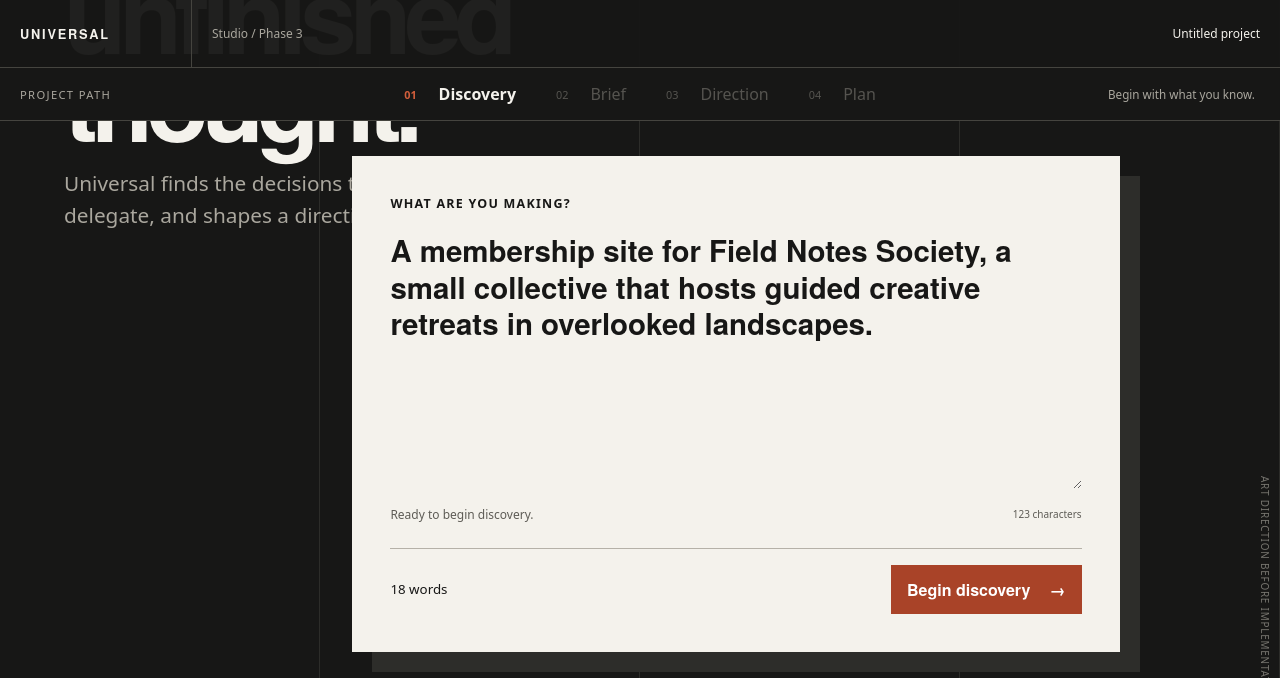
recoverable client failure › a failed start is reported, keeps the prompt, and can be retried
(page scrolled)
Replace the text in the text box labelled "What are you making?" with "A membership site for a small collective that runs guided creative retreats in overlooked coastal towns.". click: (736, 361)
box: [390,232,1082,489]
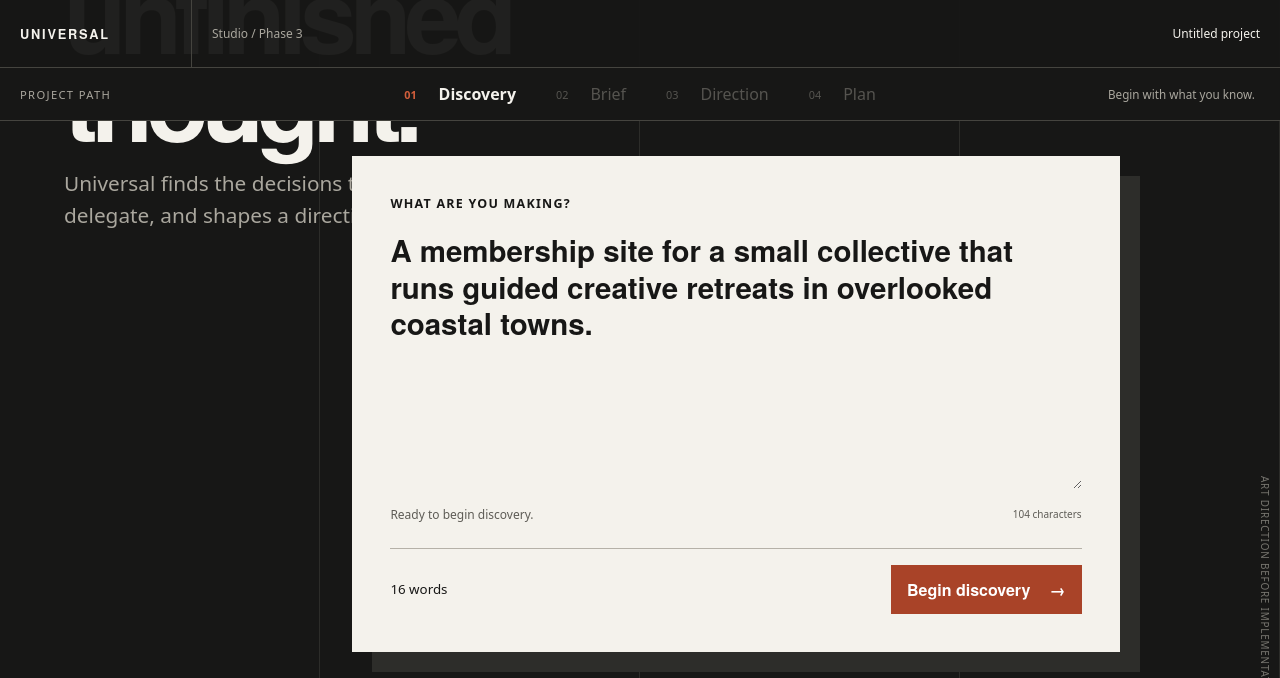
Click the button "Begin discovery →". click: (986, 589)
box: [891,565,1082,614]
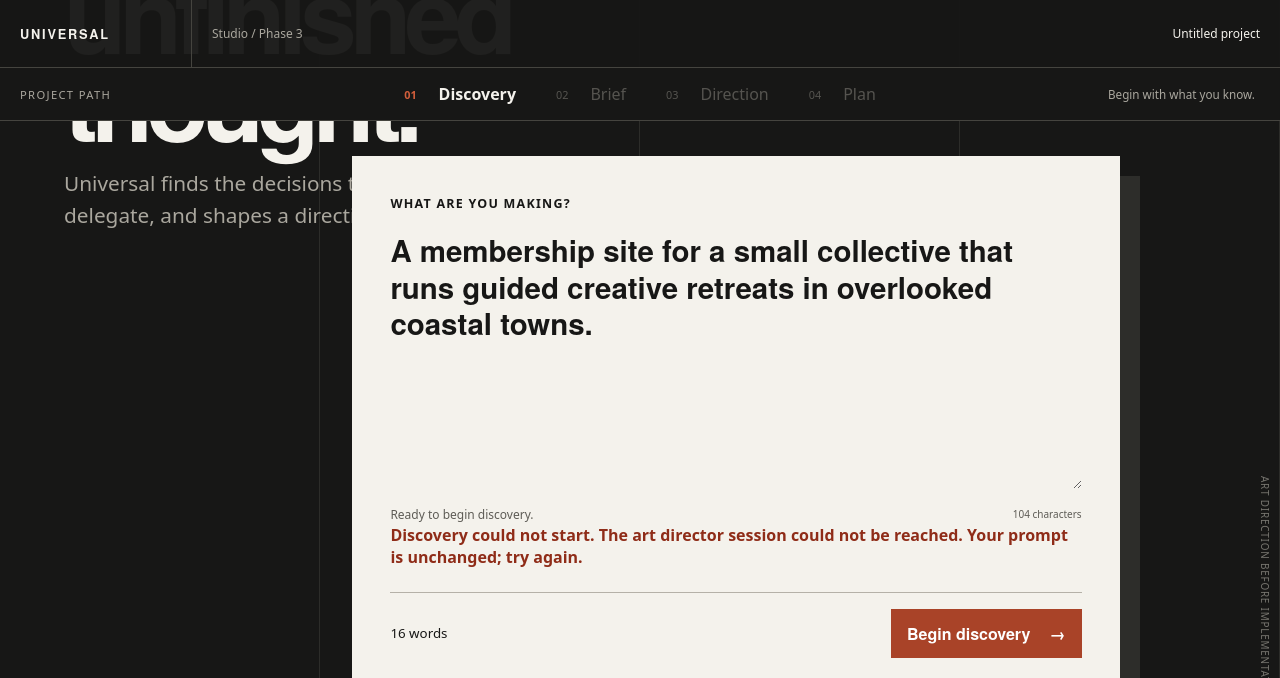
Check: the message shows "Discovery could not start", box [390,524,595,546]
Check: the message shows "could not be reached", box [599,524,963,546]
Click the button "Begin discovery →". click: (986, 633)
box: [891,609,1082,658]
(page scrolled)
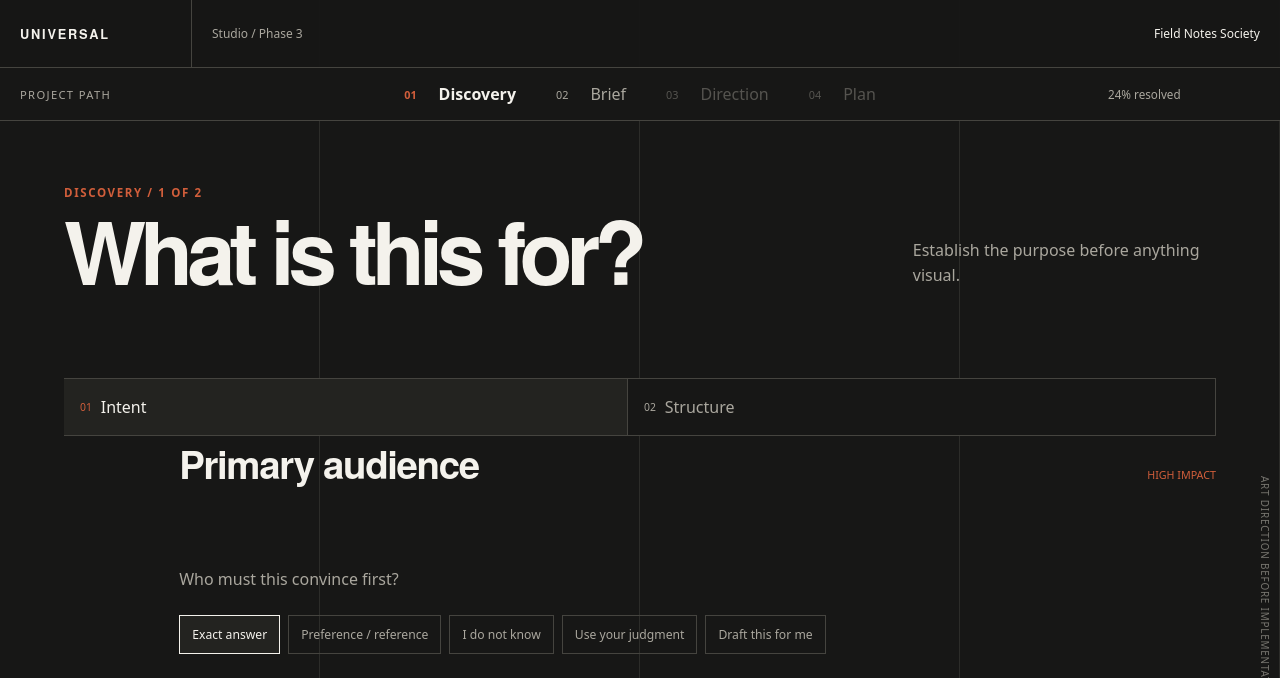
Check: the heading "What is this for?" is shown, box [64,213,645,288]
Check: the text "Discovery could not start" is gone
